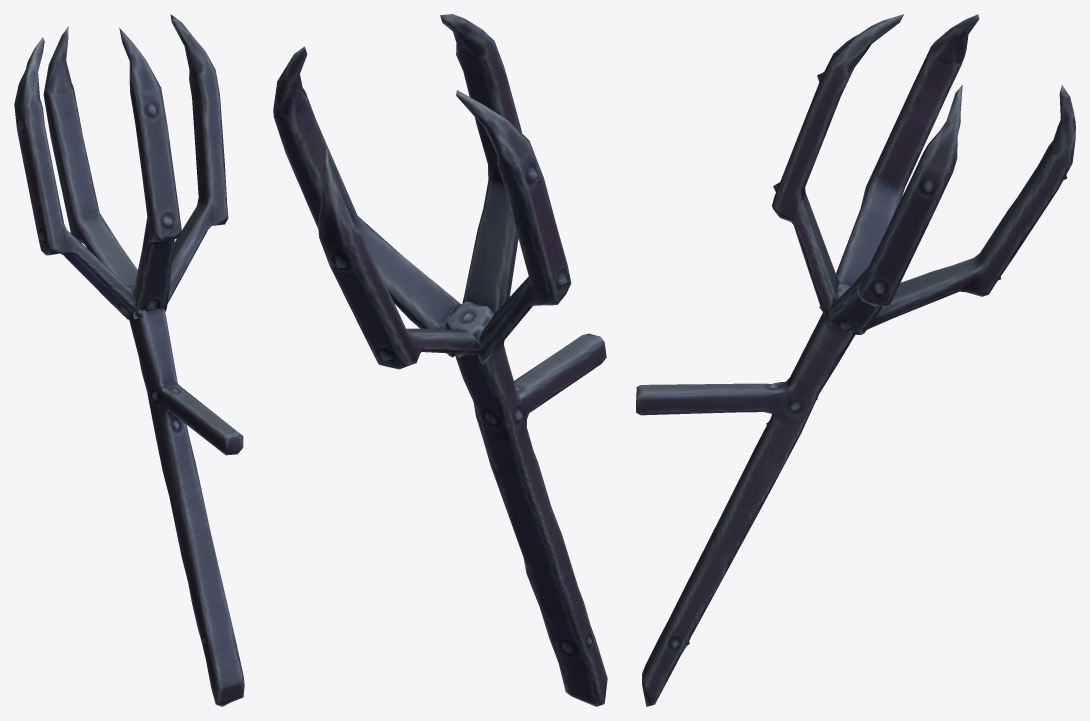
Rendered from WallTorch.FBX.
3 views of the same model, side by side, from view 1: azimuth 30°, elevation 25°; view 2: azimuth 150°, elevation 25°; view 3: azimuth 270°, elevation 25° (orthographic). The views are drawn at different scales.
Visible parts, largest first — view 1: WallTorch_01; view 2: WallTorch_01; view 3: WallTorch_01.
Boxes of the visible parts, <box> form: WallTorch_01: <box>14,14,244,706</box>; WallTorch_01: <box>273,14,607,706</box>; WallTorch_01: <box>636,14,1075,706</box>.
Bounding box in the file's own units: 0.4551 × 1.31 × 0.7544.
Materials: 1 (1 with a texture image).
